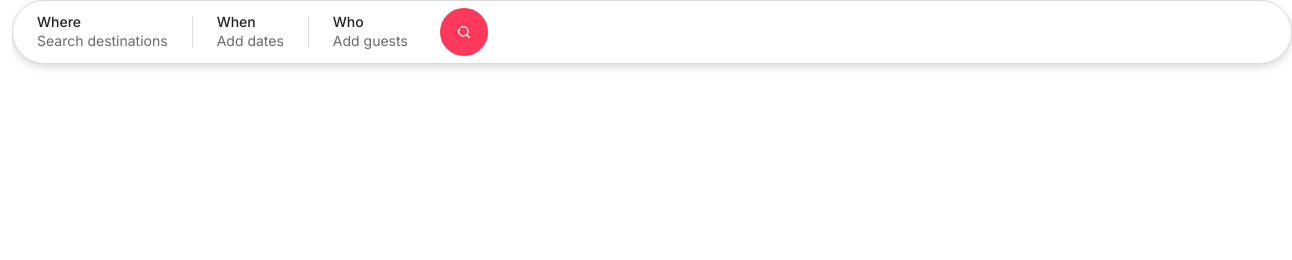
Test: HomeSearchBar › increasing guests updates the Who display
The image size is (1292, 260).
Click the button "Who Add guests": point(370, 32) x1=309 y1=5 x2=432 y2=59
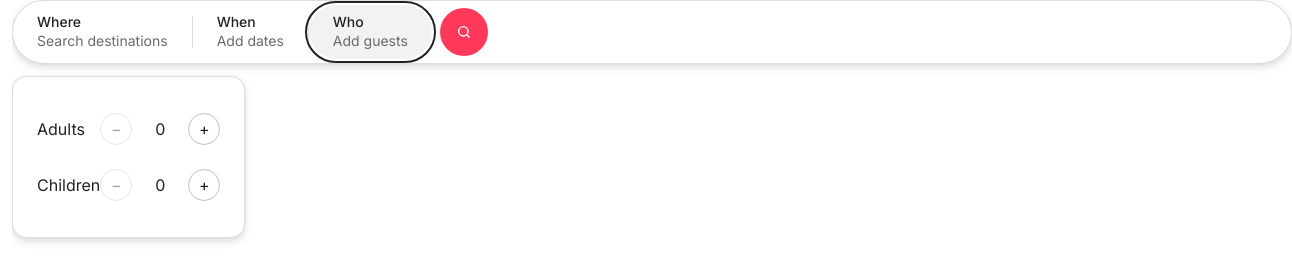
Click the button named "Increase adults": point(204, 129) x1=188 y1=113 x2=220 y2=145
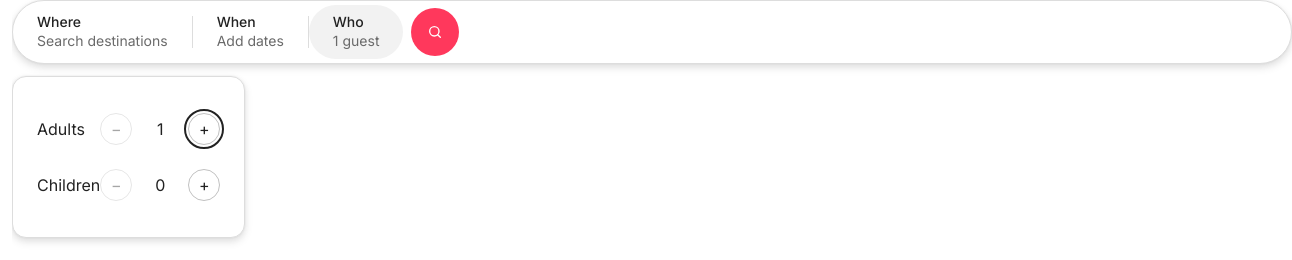
expect the button "Who 1 guest" is shown: met, box x1=309 y1=5 x2=403 y2=59
